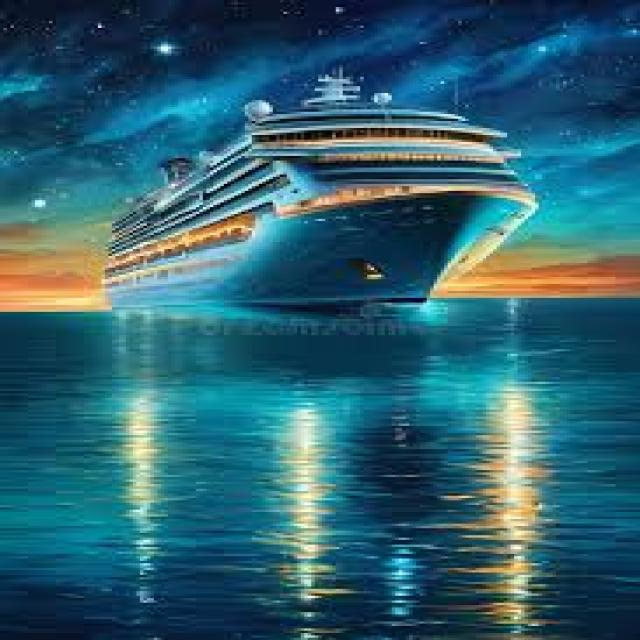PassengerShip: (50, 27, 535, 349)
